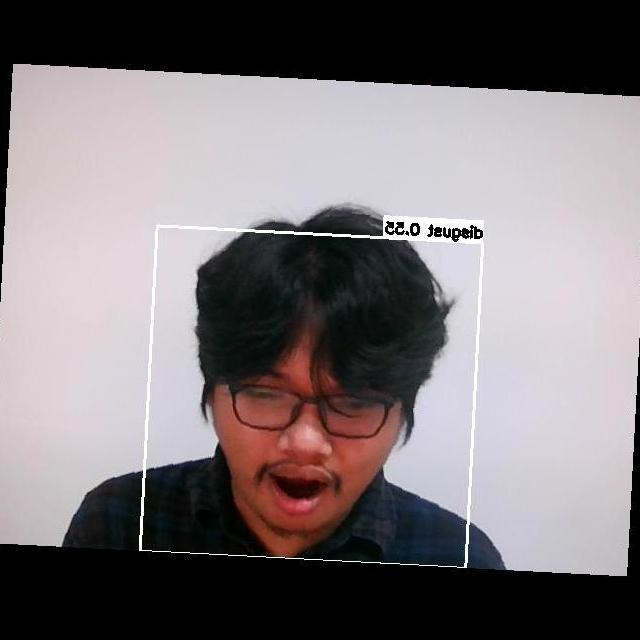Surprised: (208, 338, 409, 535)
